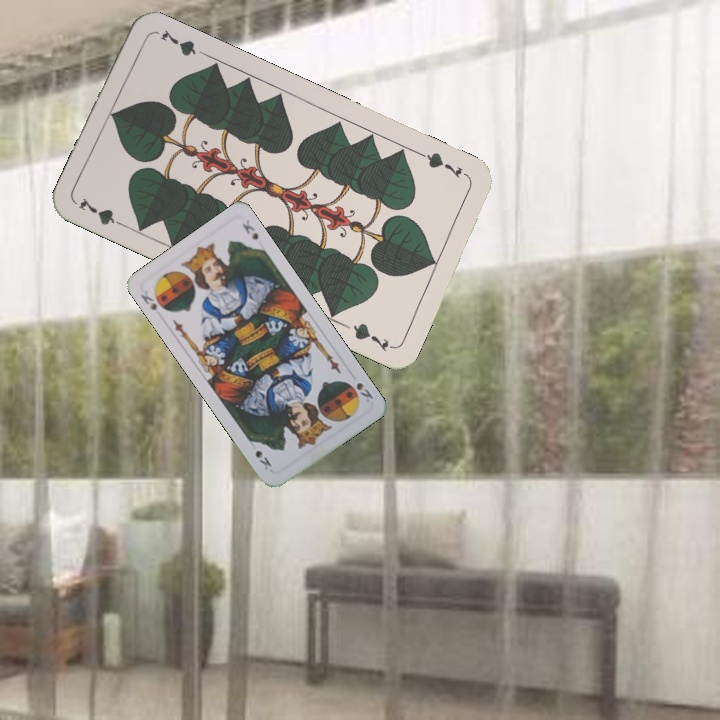G7: (74, 193, 130, 231), (416, 148, 472, 182)
SK: (136, 284, 170, 314), (344, 378, 376, 402)
